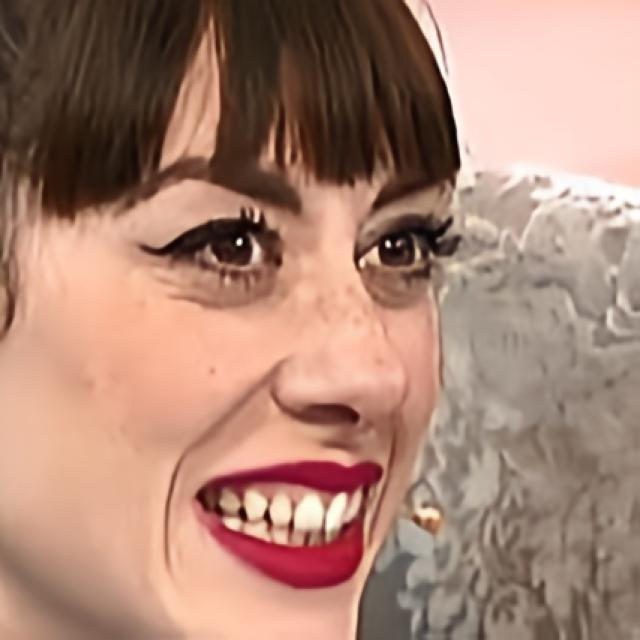happy: (12, 75, 442, 640)
